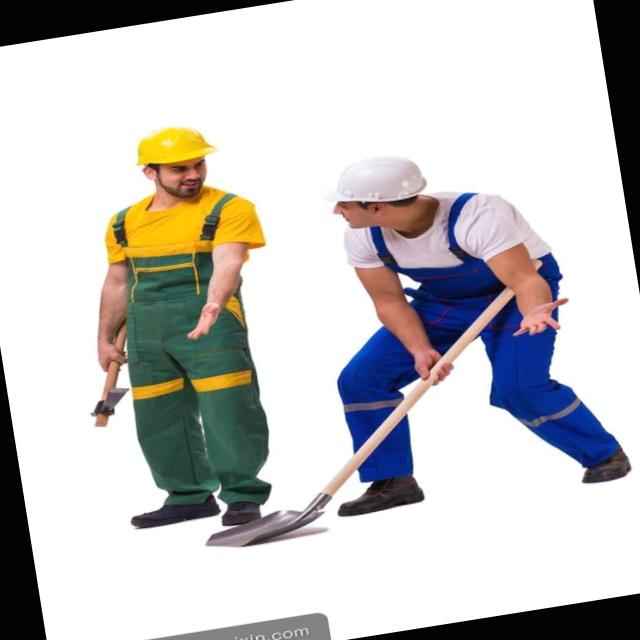helmet: (330, 148, 422, 215), (128, 119, 212, 172)
no-goggles: (152, 156, 216, 182)
no-vest: (89, 180, 281, 358), (344, 197, 548, 334)
